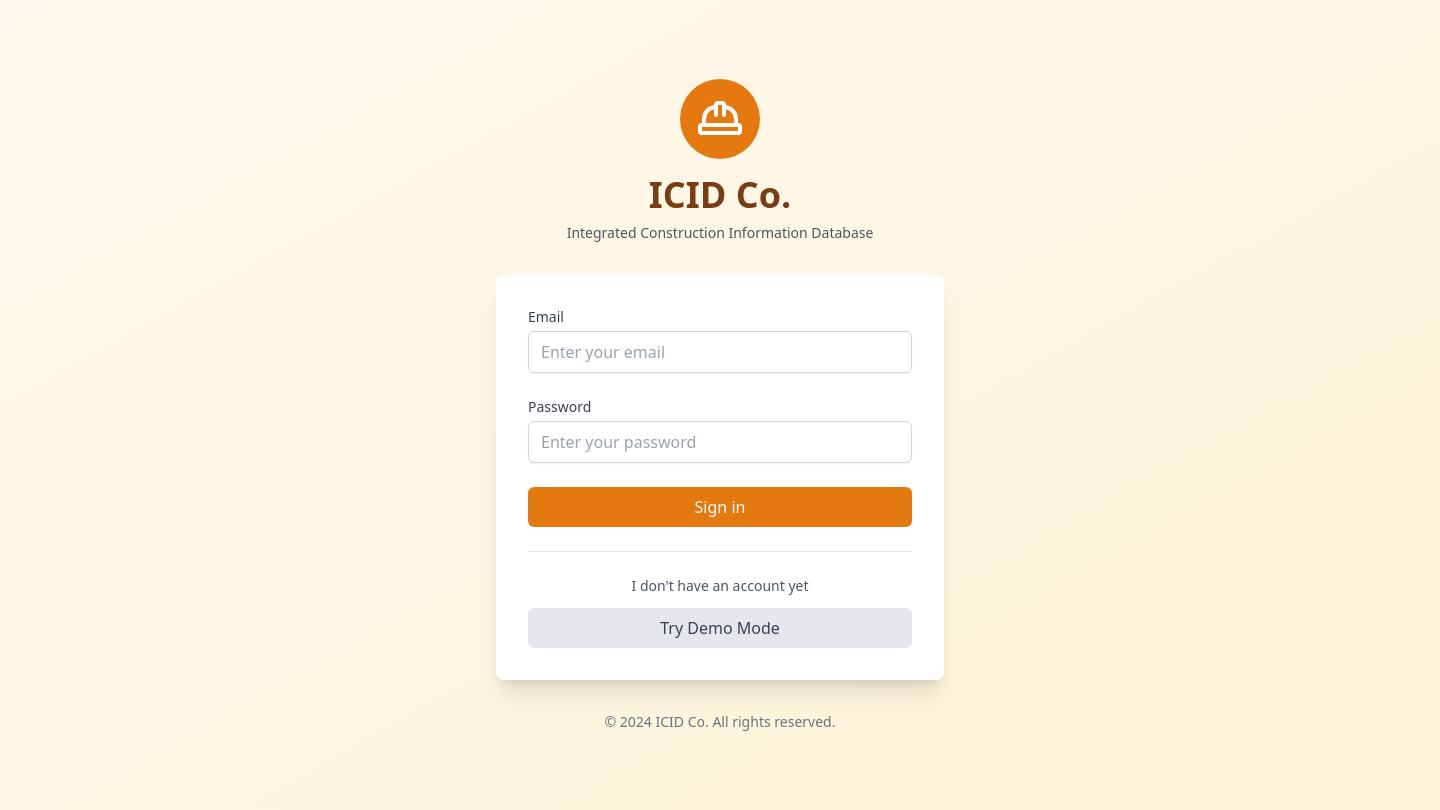
Test: LoginPage — signing in › shows "Invalid email or password" under the form on a 401 and stays on the page
Step 1. Type "KhanG@magnoleng.pc" into the field labelled "Email" → (720, 352), box [528,330,912,372]
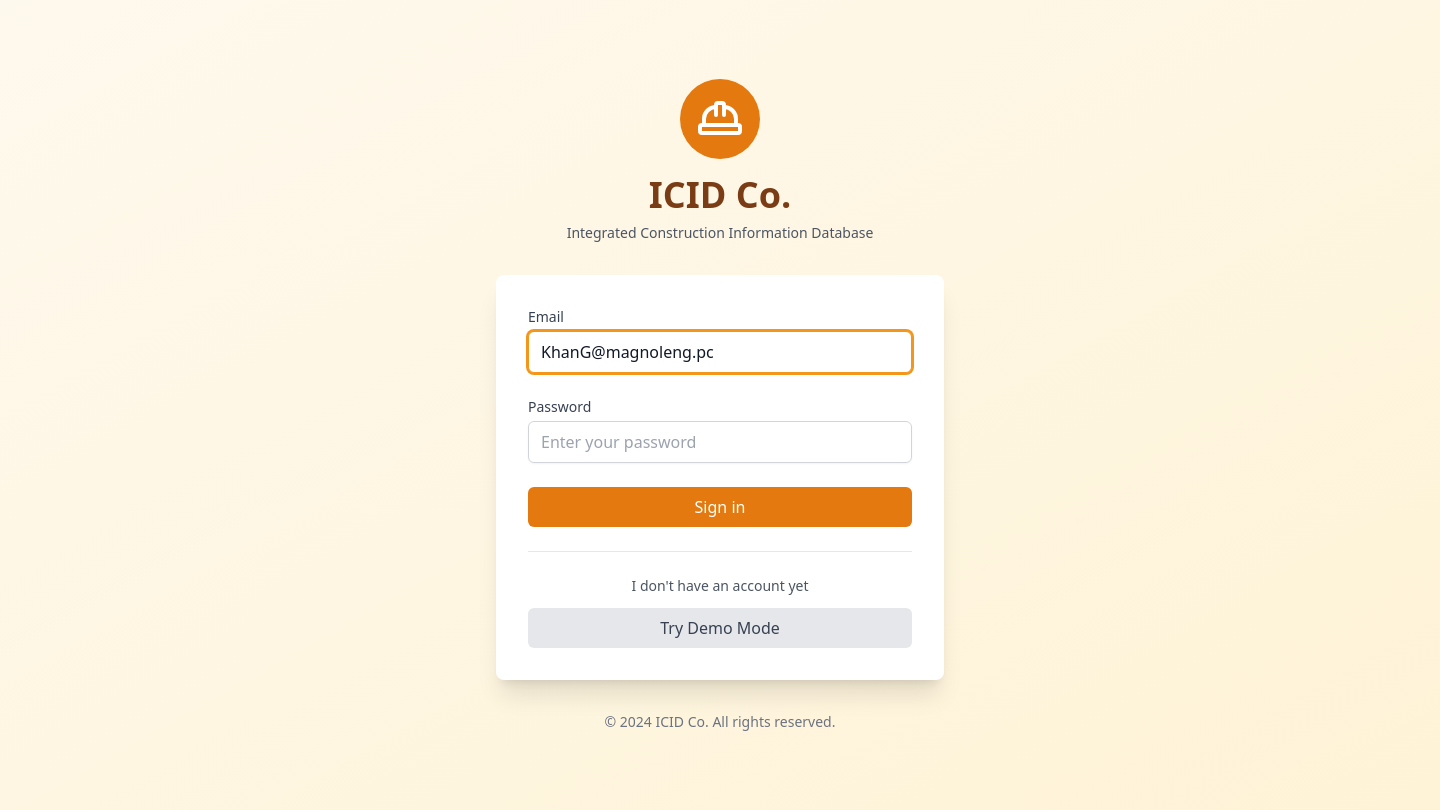
Step 2. Type "wrong-pw" into the password field labelled "Password" → (720, 442), box [528,420,912,462]
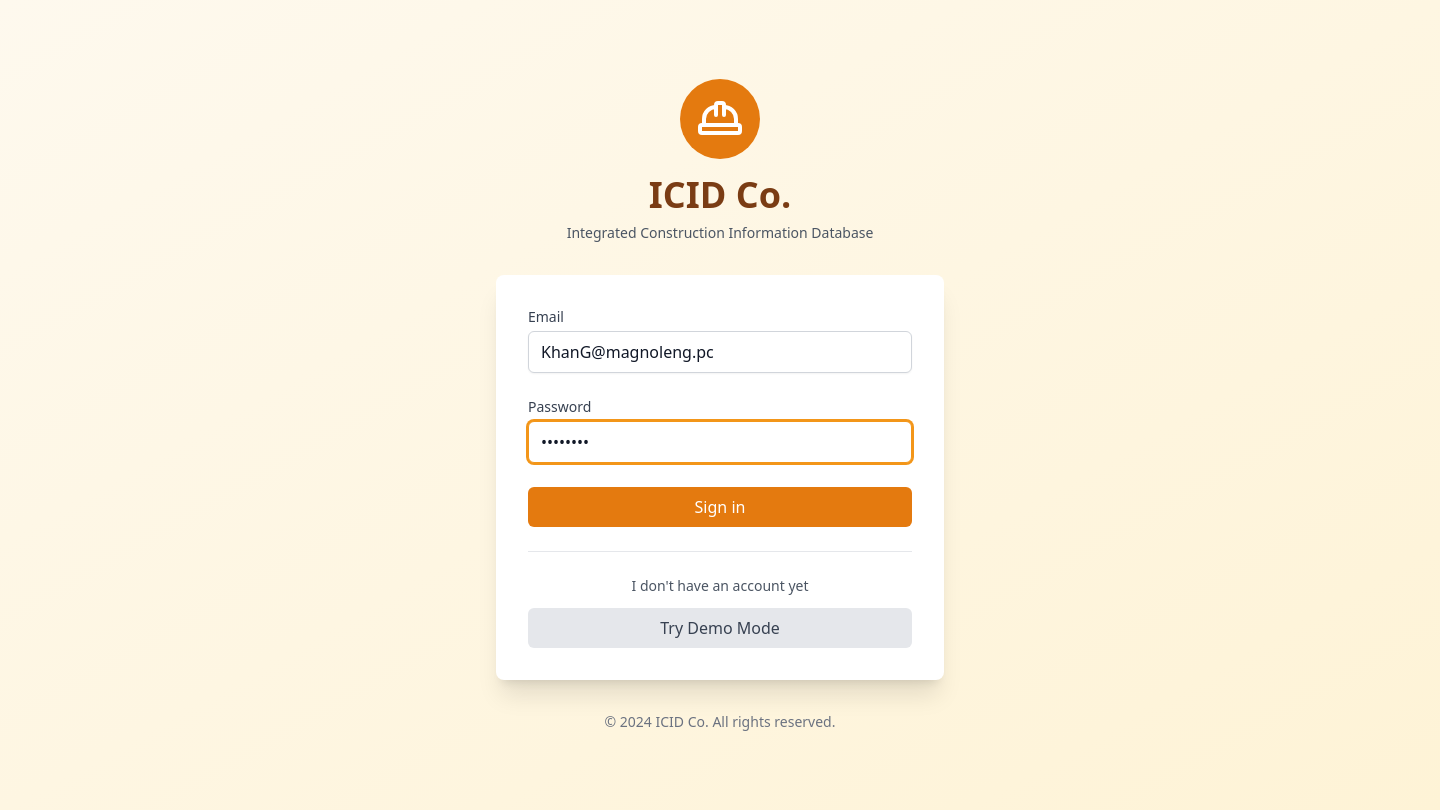
Step 3. Click the button "Sign in" → (720, 506), box [528,486,912,526]
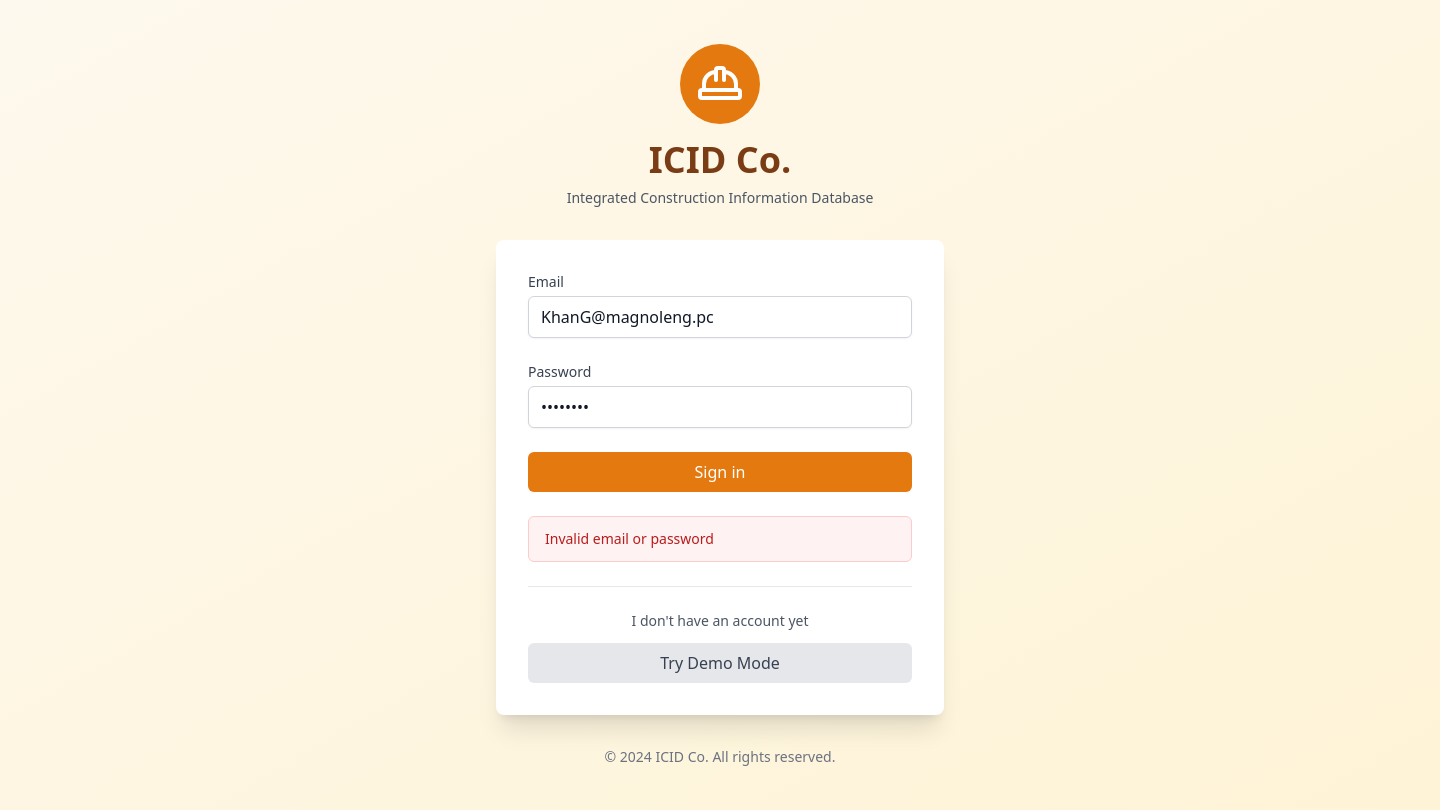
Check: the button "Sign in" is enabled, box [528,452,912,492]
Check: the message reads "Invalid email or password", box [545,528,714,548]
